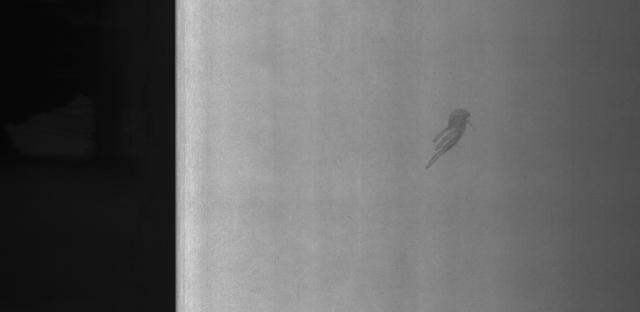water_spot: (420, 99, 488, 177), (418, 96, 481, 179)
